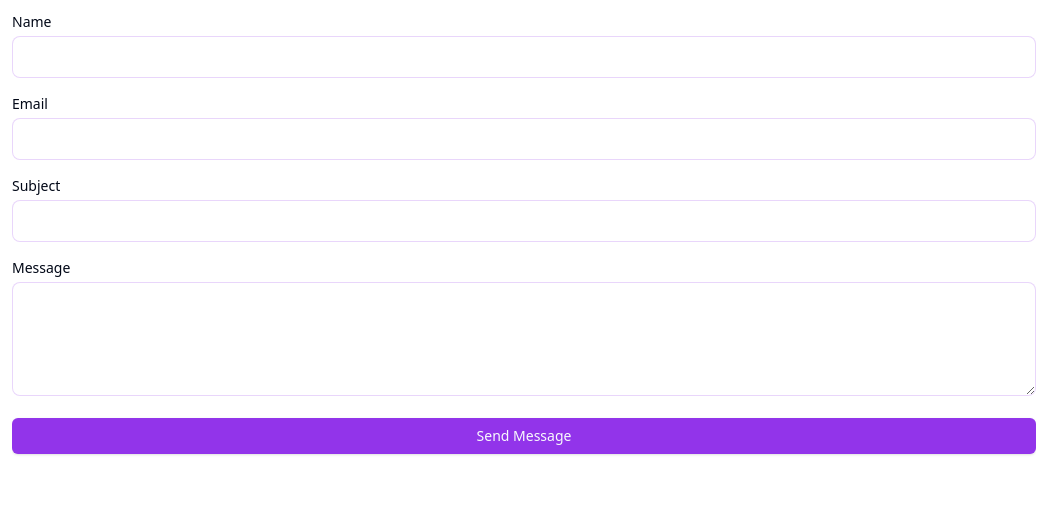
ContactForm Security Tests › Error Handling › displays success message and resets form on successful submission
Type "John Doe" into the field with test id "name-input" at (524, 57), box [12, 36, 1036, 78]
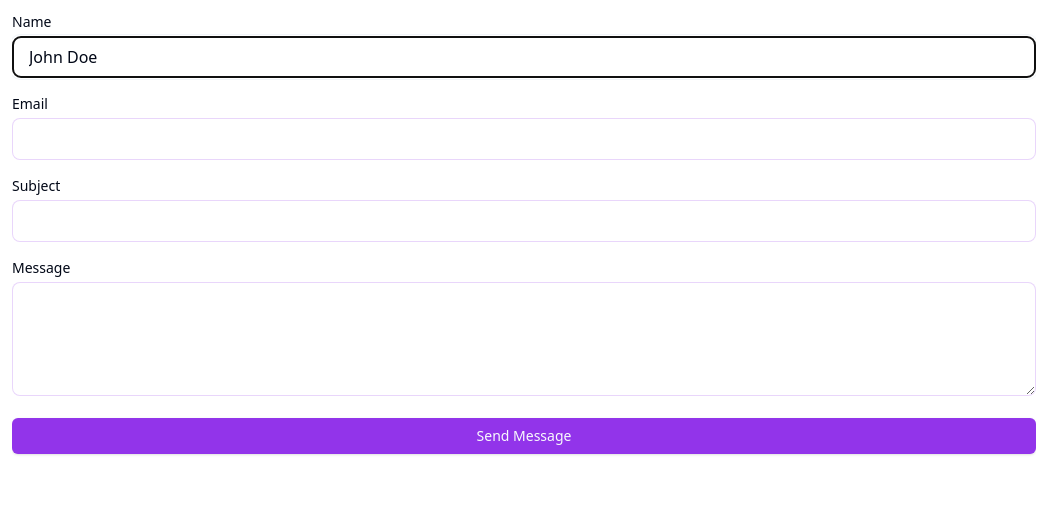
Type "john@example.com" into the field with test id "email-input" at (524, 139), box [12, 118, 1036, 160]
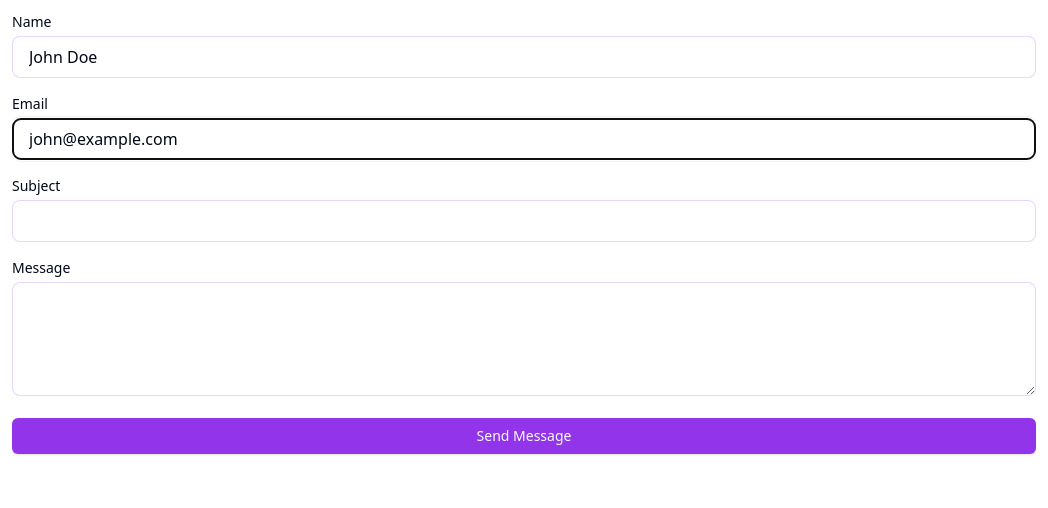
Type "Test Subject" into the field with test id "subject-input" at (524, 221), box [12, 200, 1036, 242]
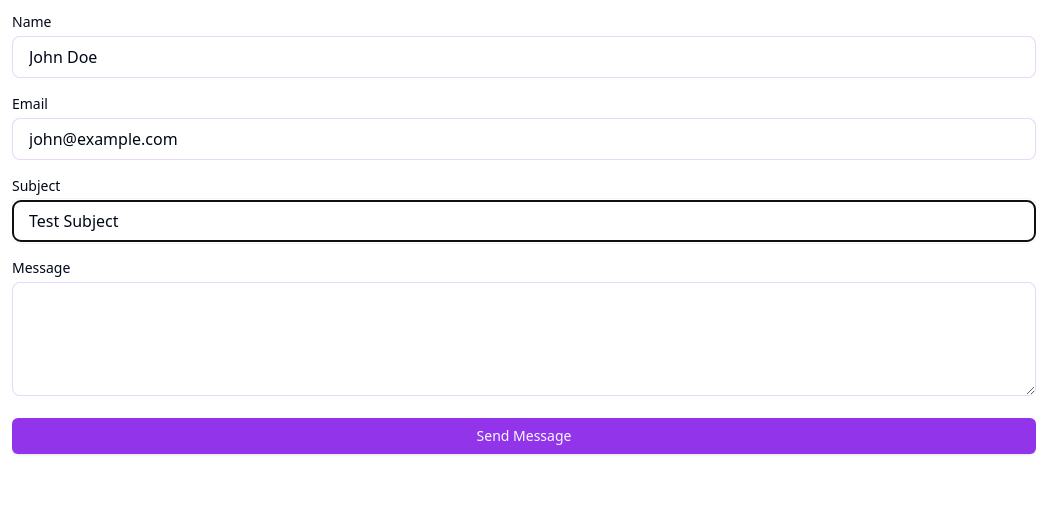
Type "Test message content" into the text box with test id "message-input" at (524, 339), box [12, 282, 1036, 396]
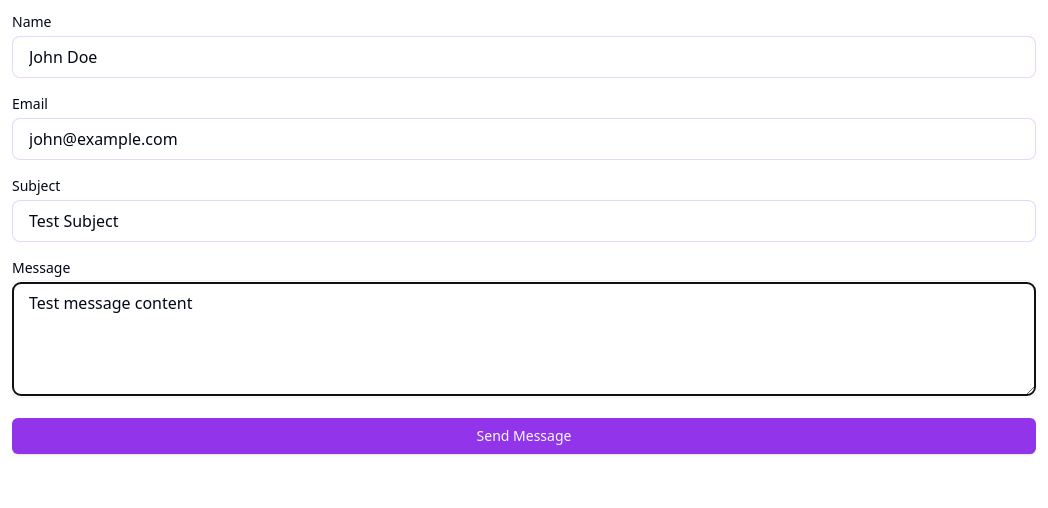
Click the button with test id "submit-button" at (524, 436), box [12, 418, 1036, 454]
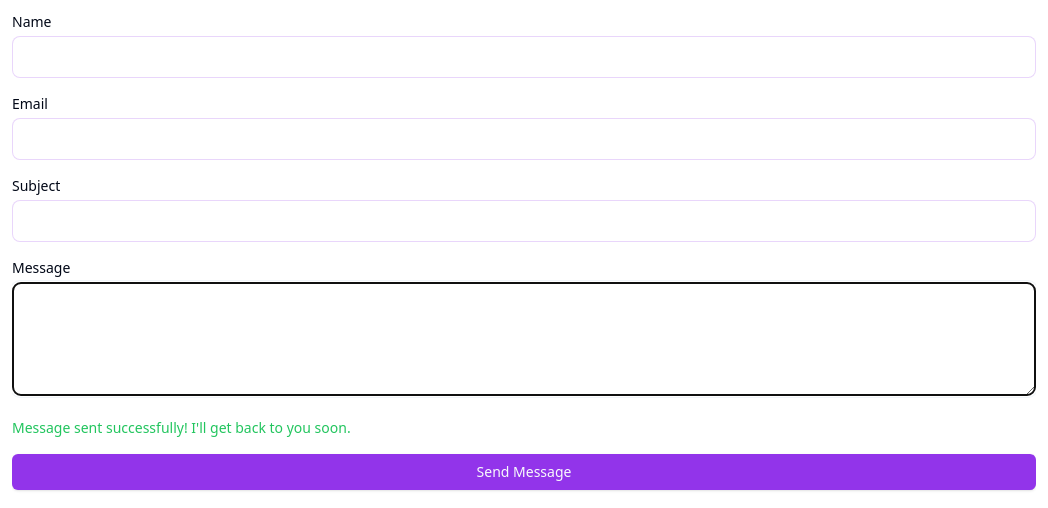
Result: the text with test id "success-message" shows "Message sent successfully" at [12, 418, 351, 437]
Result: the field with test id "name-input" is empty at [12, 36, 1036, 78]
Result: the field with test id "email-input" is empty at [12, 118, 1036, 160]
